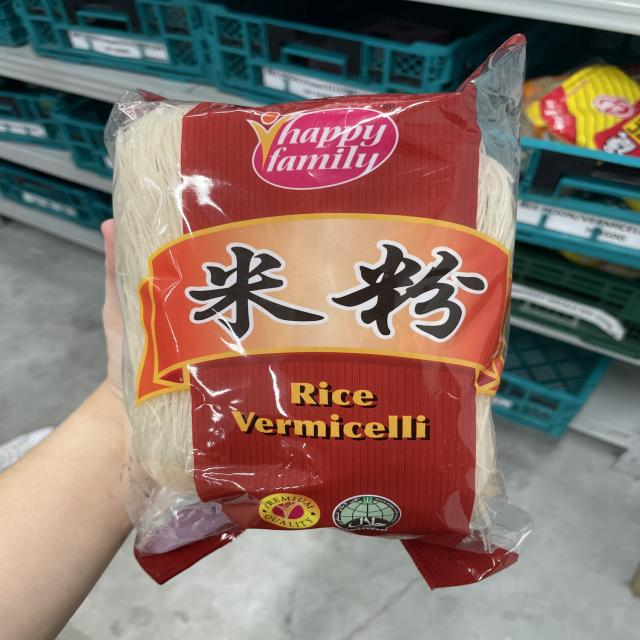object_name: (119, 106, 495, 557)
